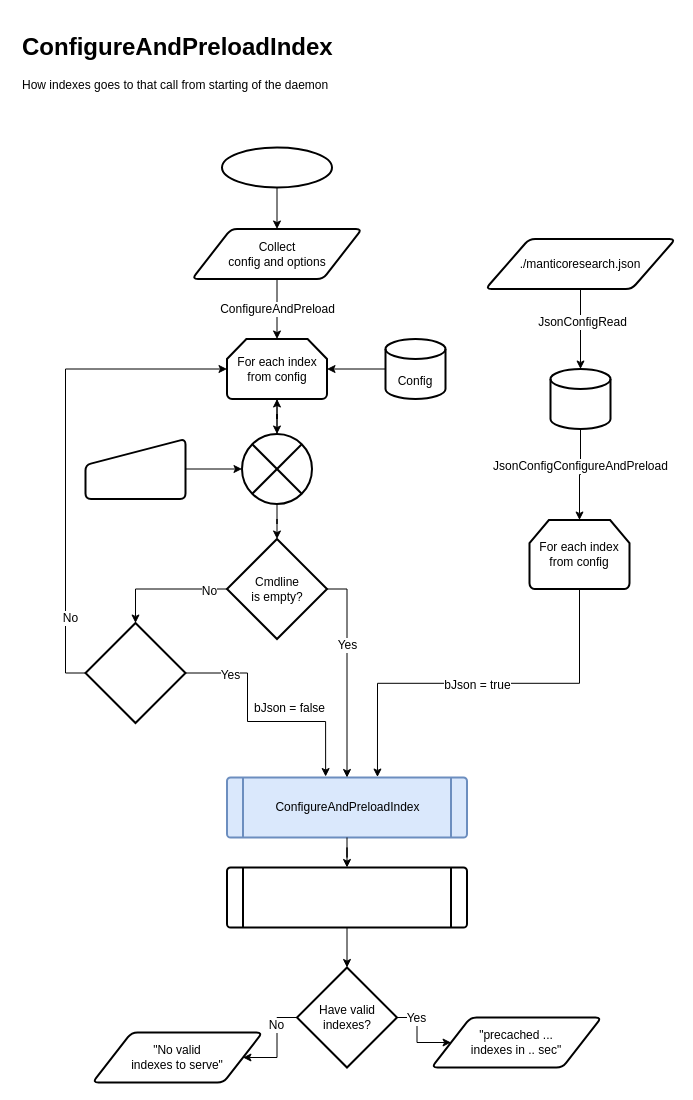
The diagram is 693 pixels wide and 1100 high, and some of its shapes have lost their labels. Here are the shapes that lost their labels. From the top down, the centre of each, then its label:
the point at 276,167: Daemon starts
the point at 580,399: Json config
the point at 135,469: Index list from cmdline
the point at 135,673: Index listed there?
the point at 347,897: Apply index kill list
